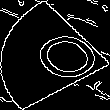O_SE: (10, 22, 100, 88)
